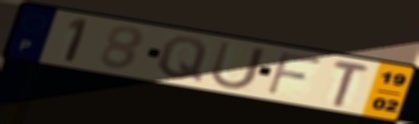1: (63, 17, 91, 65)
8: (98, 24, 148, 74)
F: (263, 50, 326, 97)
Q: (155, 35, 211, 85)
T: (330, 58, 373, 110)
U: (207, 39, 268, 92)
